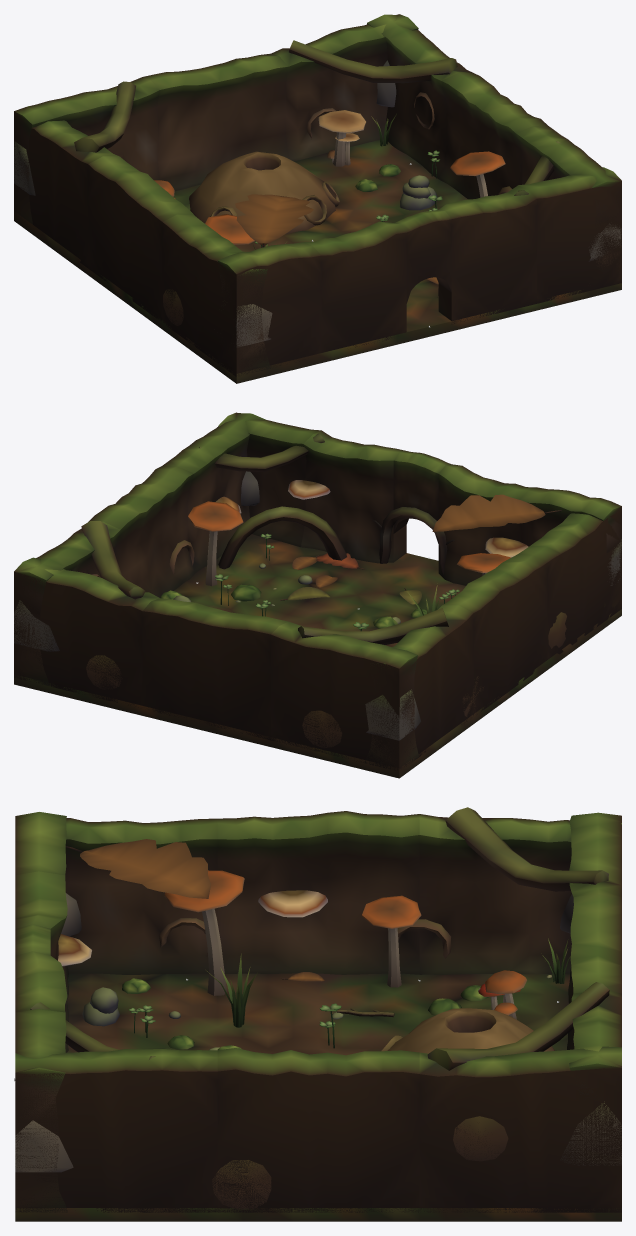
The model's file is mossy_boss.fbx.
3 renders of one model, top to bottom at view 1: azimuth 30°, elevation 25°; view 2: azimuth 150°, elevation 25°; view 3: azimuth 270°, elevation 25°, orthographic. The views are drawn at different scales.
Parts seen in each view (by area): view 1: COL_Floor, COL_WallN_02, COL_WallW_01, COL_WallS_02, COL_WallW_02, COL_WallS_03, COL_WallS_01, COL_WallN_03, COL_WallS_04, COL_WallE_02, COL_WallN_01, COL_WallW_03 (+15 smaller); view 2: COL_Floor, COL_WallN_01, COL_WallN_02, COL_WallN_03, COL_WallW_02, COL_WallS_02, COL_WallW_03, COL_WallW_01, COL_WallE_02, COL_WallE_03, COL_WallE_01, COL_WallS_01 (+18 smaller); view 3: COL_Floor, COL_WallE_02, COL_WallE_01, COL_WallE_03, COL_WallW_02, COL_WallW_03, COL_WallW_01, COL_WallS_01, COL_LeafCanopy_01, COL_WallN_02, COL_AntNest, COL_CeilingRoot_01 (+21 smaller).
Part boxes in pixels (bbox=[...]): COL_Floor: bbox=[14, 139, 621, 383]; COL_WallN_02: bbox=[143, 53, 289, 190]; COL_WallW_01: bbox=[162, 214, 270, 376]; COL_WallS_02: bbox=[438, 185, 536, 324]; COL_WallW_02: bbox=[88, 156, 192, 320]; COL_WallS_03: bbox=[304, 221, 406, 352]; COL_WallS_01: bbox=[519, 167, 621, 303]; COL_WallN_03: bbox=[271, 14, 418, 161]; COL_WallS_04: bbox=[217, 242, 321, 375]; COL_WallE_02: bbox=[439, 72, 547, 199]; COL_WallN_01: bbox=[14, 77, 159, 224]; COL_WallW_03: bbox=[28, 106, 118, 268]; COL_Floor: bbox=[14, 534, 621, 778]; COL_WallN_01: bbox=[271, 621, 418, 770]; COL_WallN_02: bbox=[142, 598, 288, 740]; COL_WallN_03: bbox=[14, 557, 159, 707]; COL_WallW_02: bbox=[443, 554, 547, 715]; COL_WallS_02: bbox=[301, 430, 406, 563]; COL_WallW_03: bbox=[365, 605, 473, 770]; COL_WallW_01: bbox=[517, 509, 621, 659]; COL_WallE_02: bbox=[88, 465, 194, 597]; COL_WallE_03: bbox=[163, 413, 265, 573]; COL_WallE_01: bbox=[14, 521, 120, 685]; COL_WallS_01: bbox=[218, 412, 320, 547]; COL_Floor: bbox=[15, 973, 621, 1221]; COL_WallE_02: bbox=[217, 1048, 419, 1212]; COL_WallE_01: bbox=[419, 1046, 621, 1212]; COL_WallE_03: bbox=[15, 1049, 217, 1212]; COL_WallW_02: bbox=[217, 811, 419, 974]; COL_WallW_03: bbox=[419, 814, 621, 974]; COL_WallW_01: bbox=[65, 818, 217, 974]; COL_WallS_01: bbox=[15, 1009, 67, 1212]; COL_LeafCanopy_01: bbox=[65, 839, 210, 898]; COL_WallN_02: bbox=[567, 894, 621, 1049]; COL_AntNest: bbox=[381, 1008, 554, 1053]; COL_CeilingRoot_01: bbox=[445, 807, 608, 891].
Size of the model in its own units: 24000 by 7584 by 24050.
